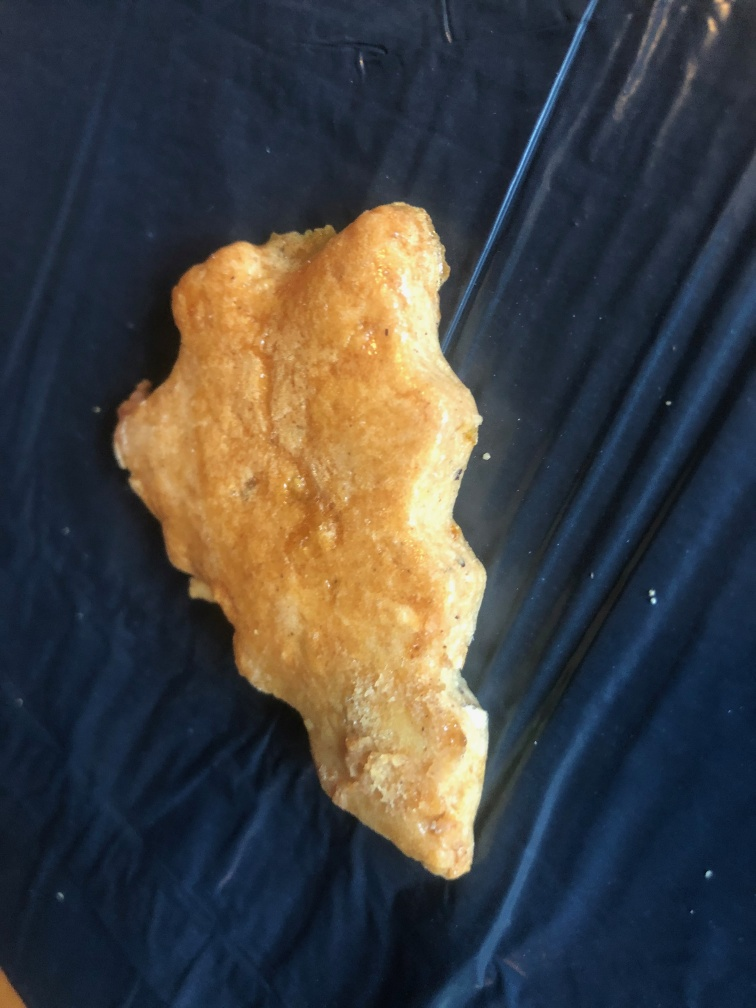christmas tree: (96, 189, 486, 910)
